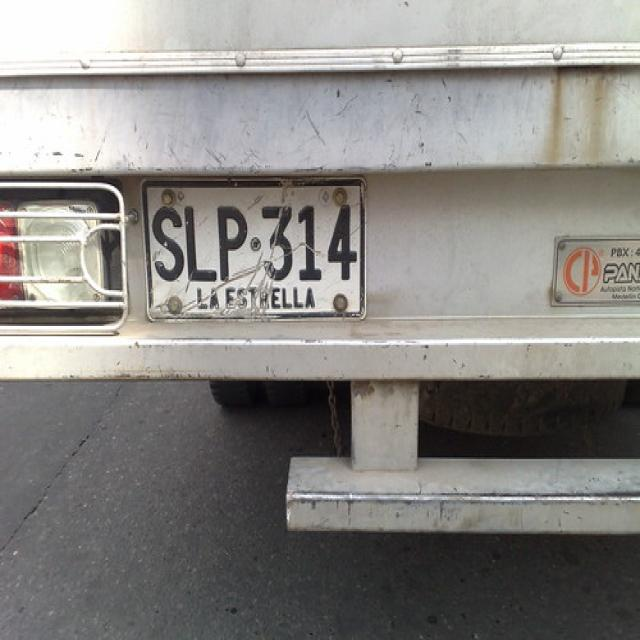placas: (149, 194, 359, 288)
